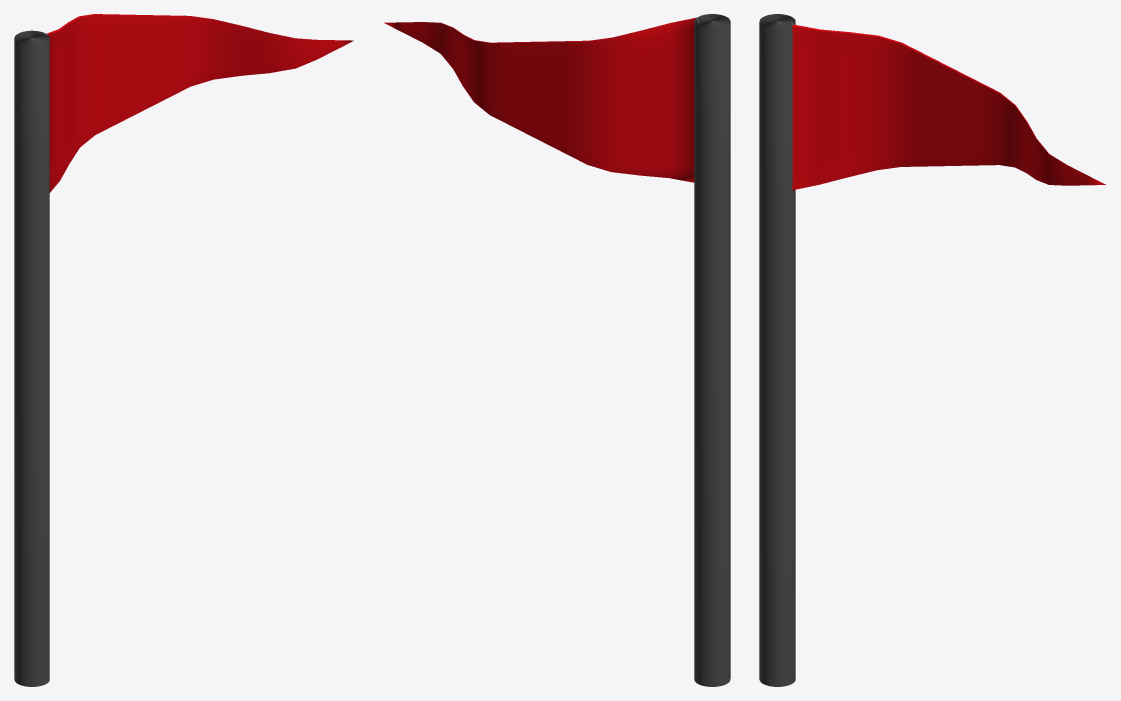
Rendered from Flag2(T).fbx.
3 renders of one model, left to right at view 1: azimuth 30°, elevation 25°; view 2: azimuth 150°, elevation 25°; view 3: azimuth 330°, elevation 25°, orthographic. The views are drawn at different scales.
Parts seen in each view (by area): view 1: Flag2; view 2: Flag2; view 3: Flag2.
Part boxes in pixels (x1,y1,x2,y2): Flag2: (14, 14, 353, 686); Flag2: (384, 14, 730, 686); Flag2: (759, 14, 1105, 686).
Bounding box in the file's own units: 110 × 200 × 21.87.
